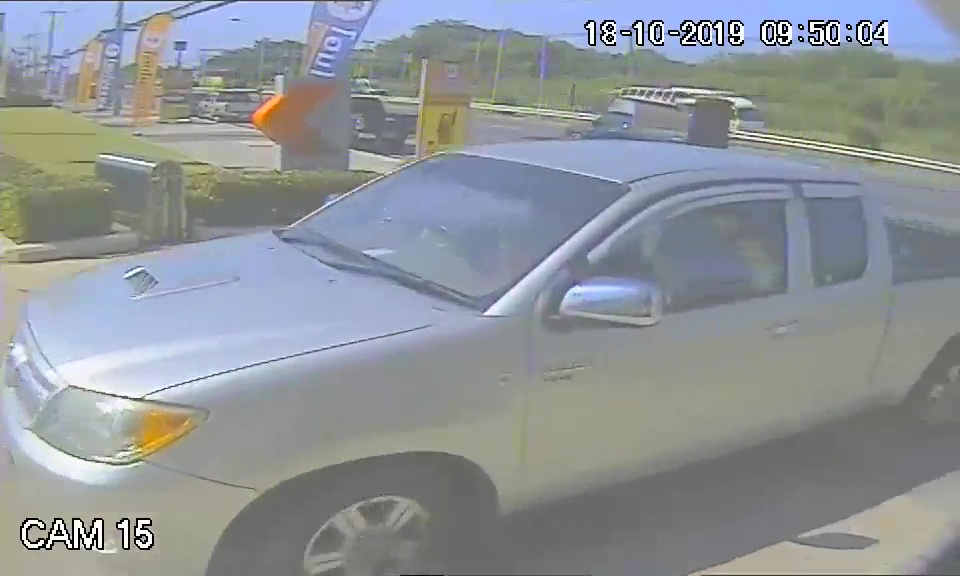pickup: (10, 138, 960, 527)
